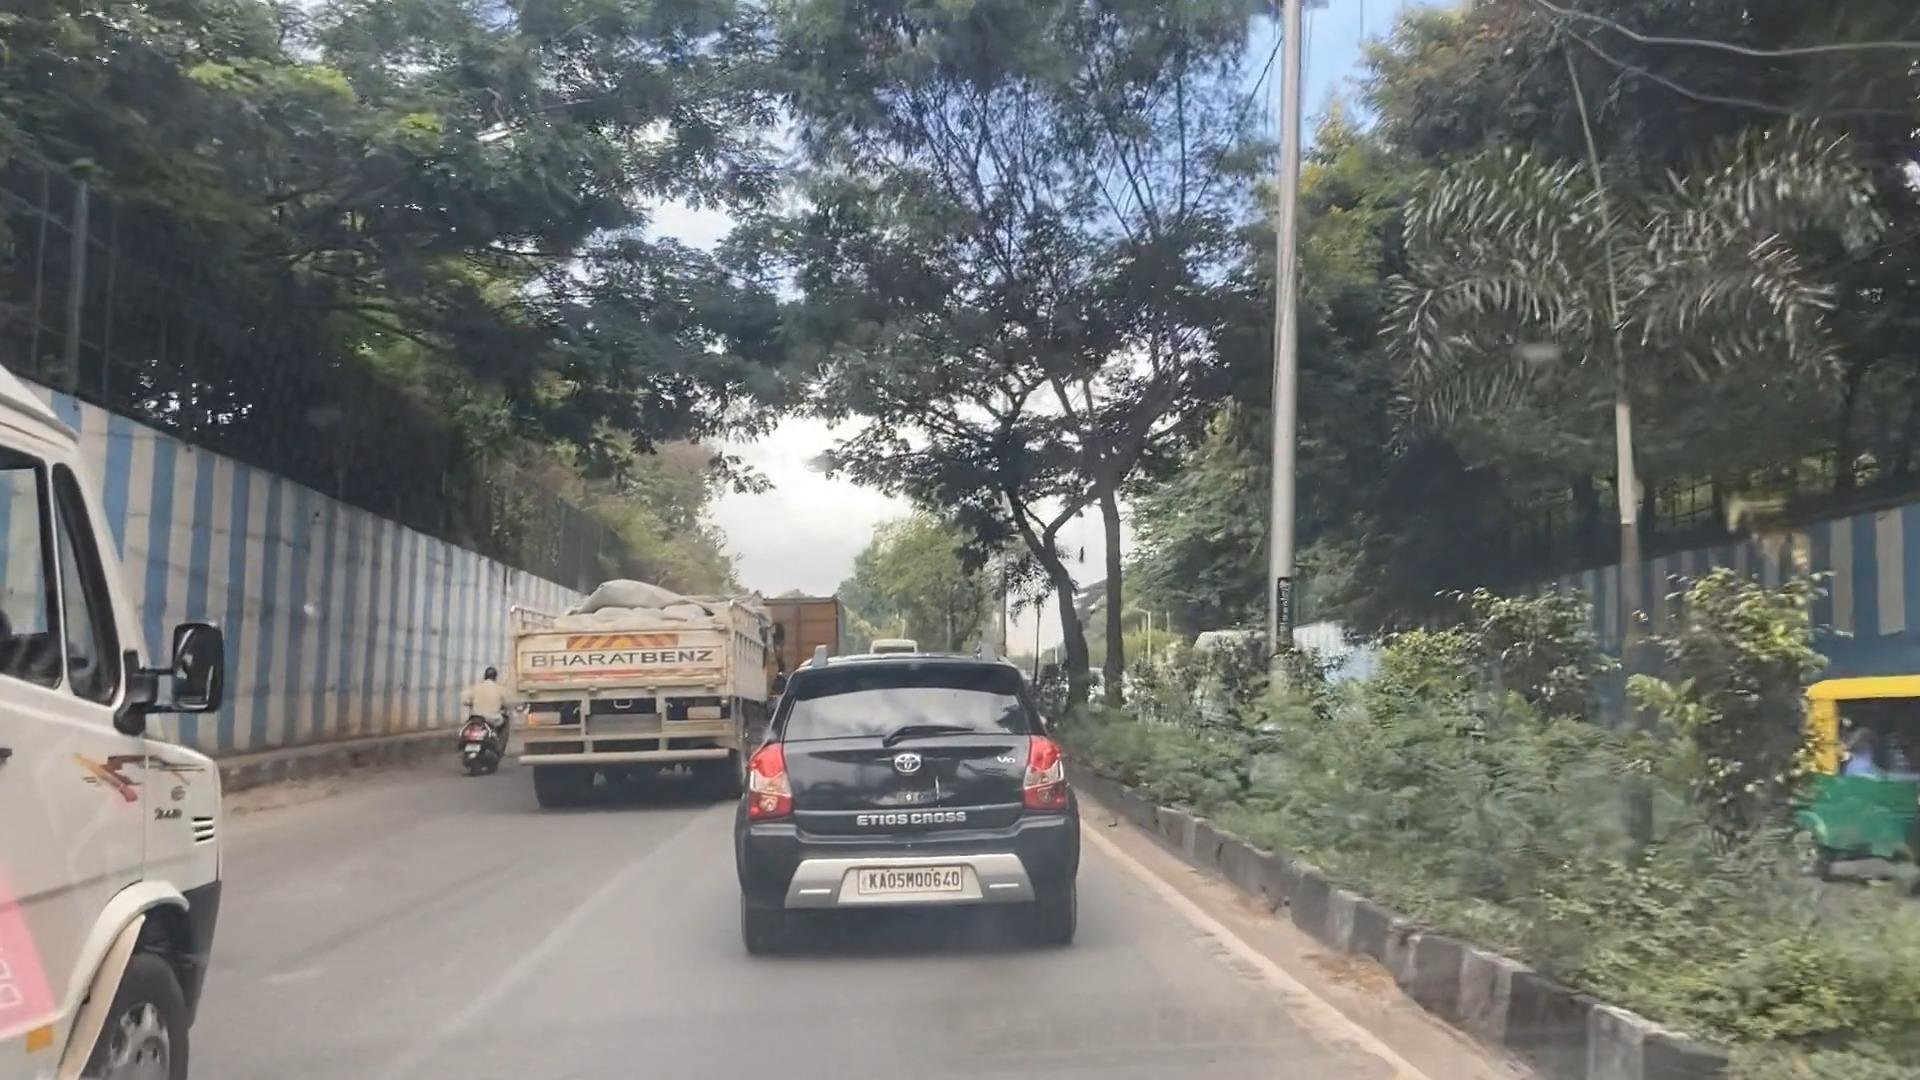HMV: (0, 355, 368, 1080), (516, 529, 785, 819)
LMV: (707, 608, 1130, 992), (463, 646, 534, 789)
